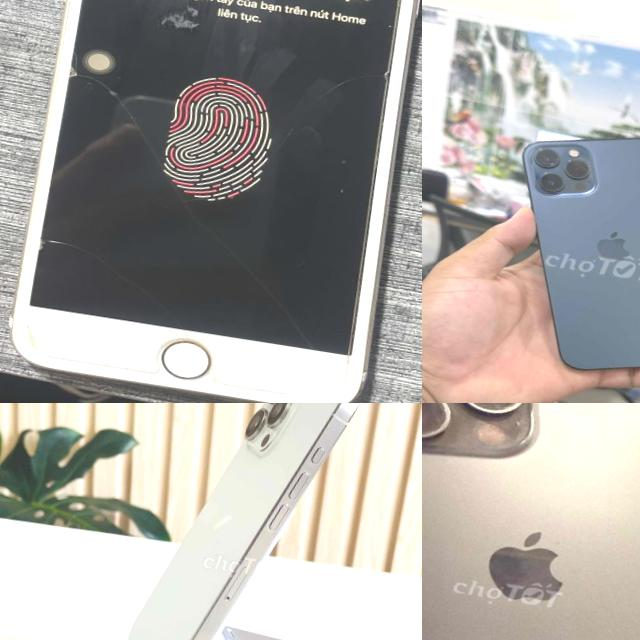gen_12_13: (487, 118, 640, 393)
gen_15: (89, 403, 373, 640), (422, 403, 640, 640)
gen_6: (0, 0, 422, 403)
